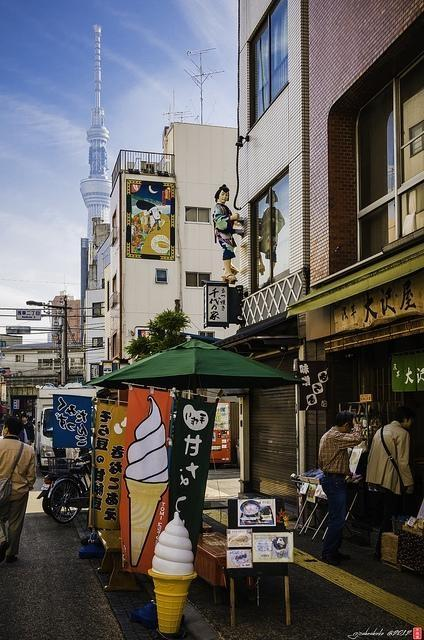bicycle: (48, 477, 90, 524)
truck: (34, 388, 104, 472)
